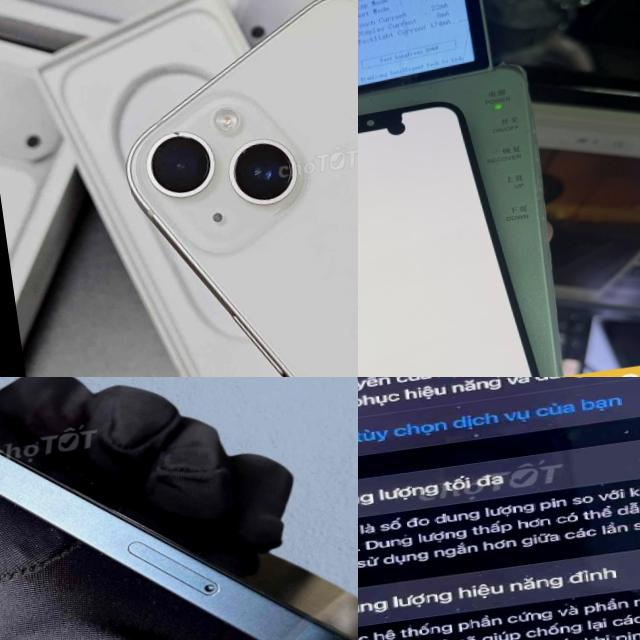screen_defect: (388, 120, 407, 136)
